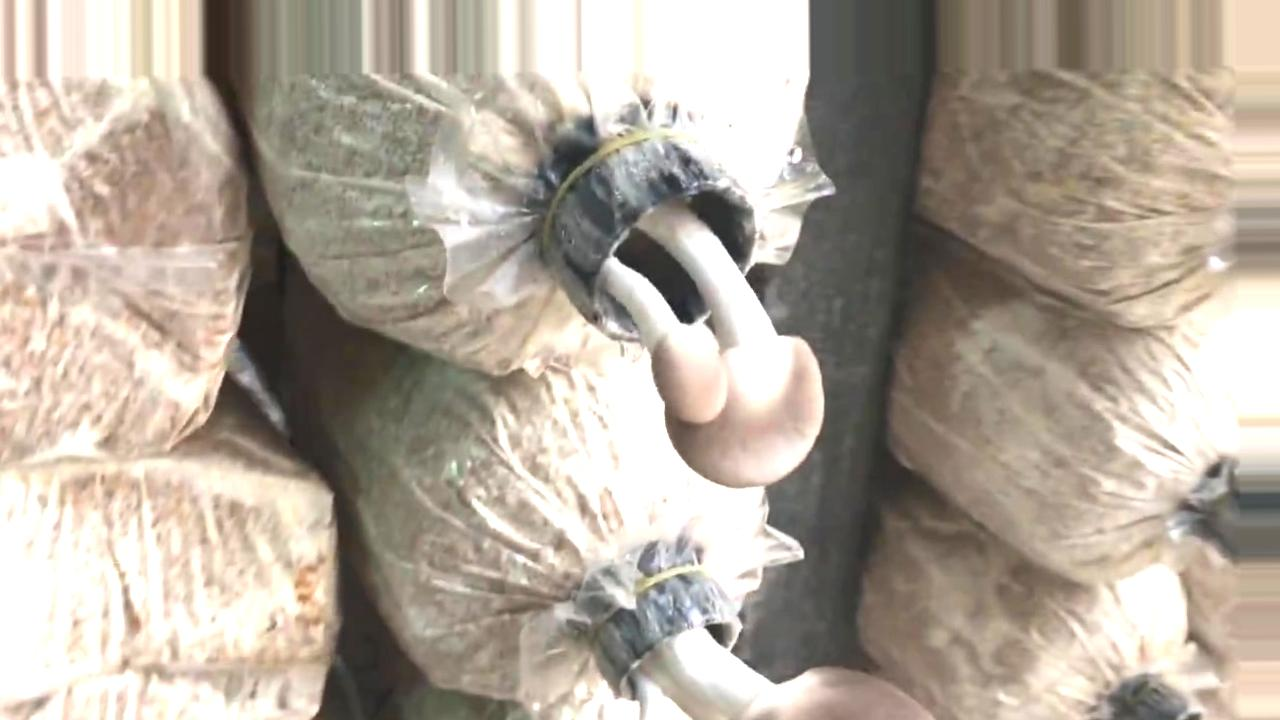nam: (547, 128, 823, 488), (594, 560, 930, 720)
